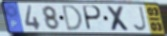4: (24, 5, 42, 32)
8: (41, 5, 62, 31)
D: (61, 4, 84, 32)
J: (132, 6, 148, 32)
P: (82, 5, 103, 32)
X: (105, 5, 133, 33)
